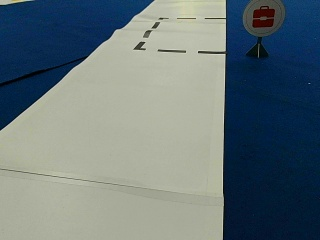company: (243, 0, 285, 35)
